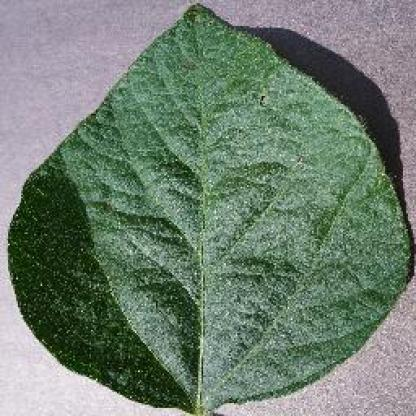soy: (5, 3, 416, 416)
